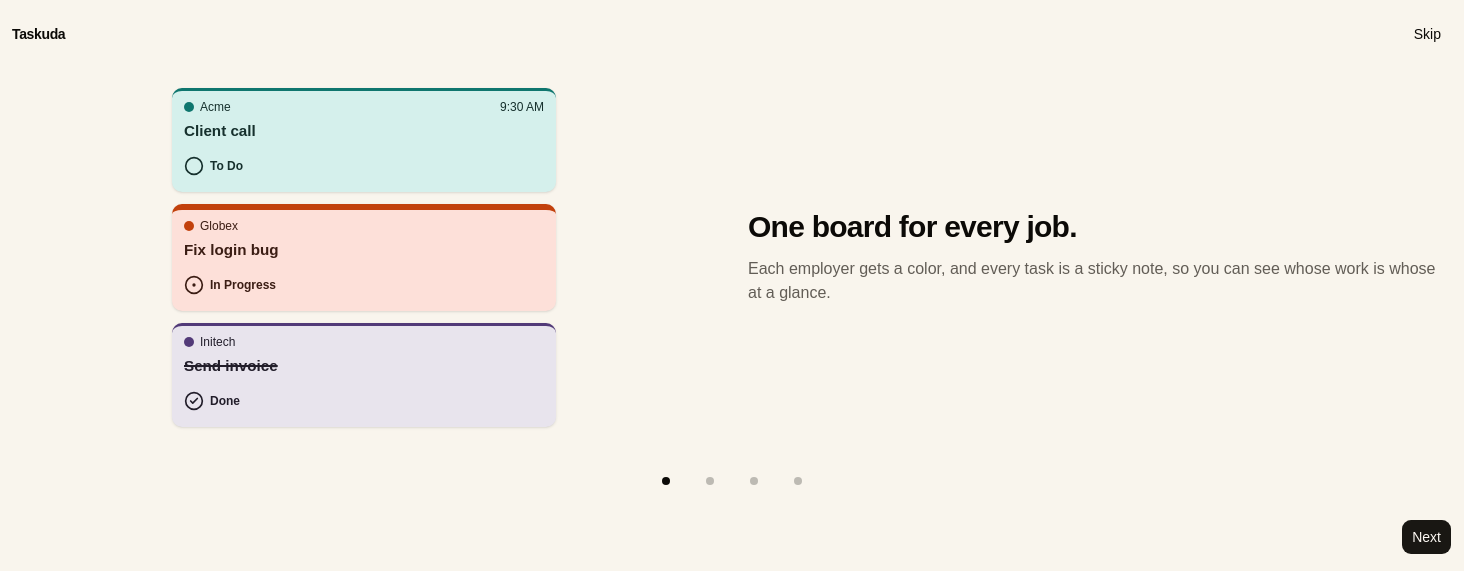
Test: IntroCarousel (S1a) › AC33.4 replay ends with Done only
The width and height of the screenshot is (1464, 571).
Click the button named "Go to slide 4": (798, 481) [776,459,820,503]
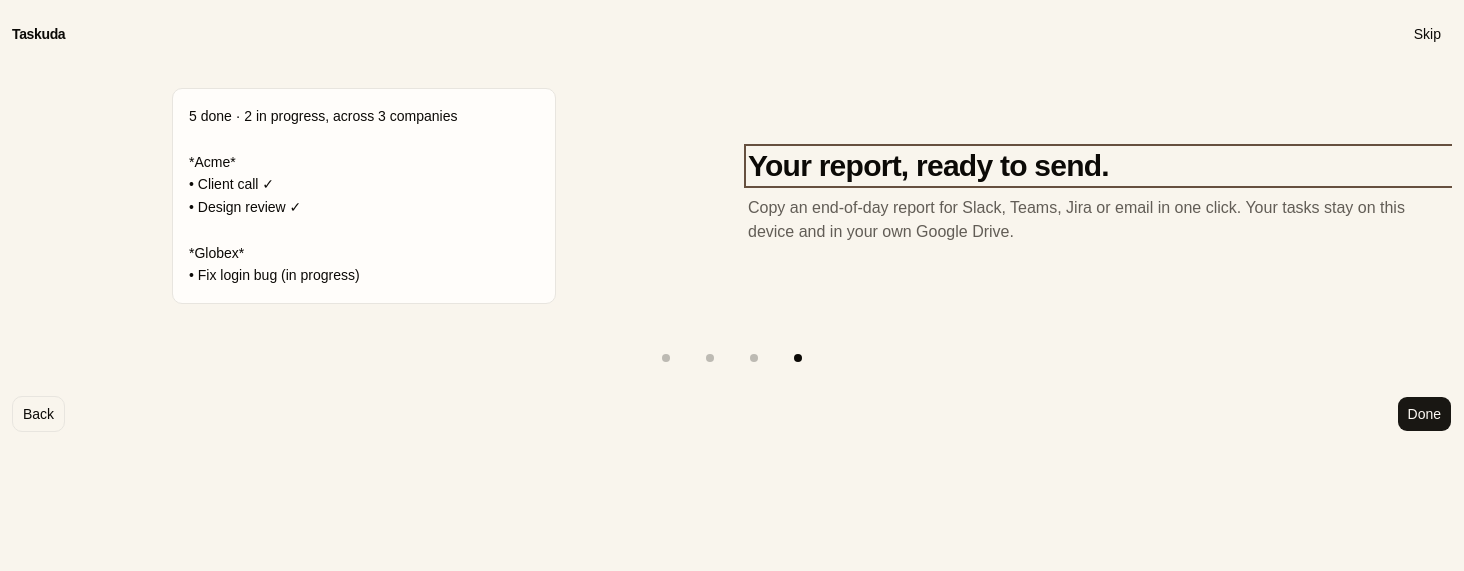
Result: the button "Done" is shown at [1396,396,1452,432]
